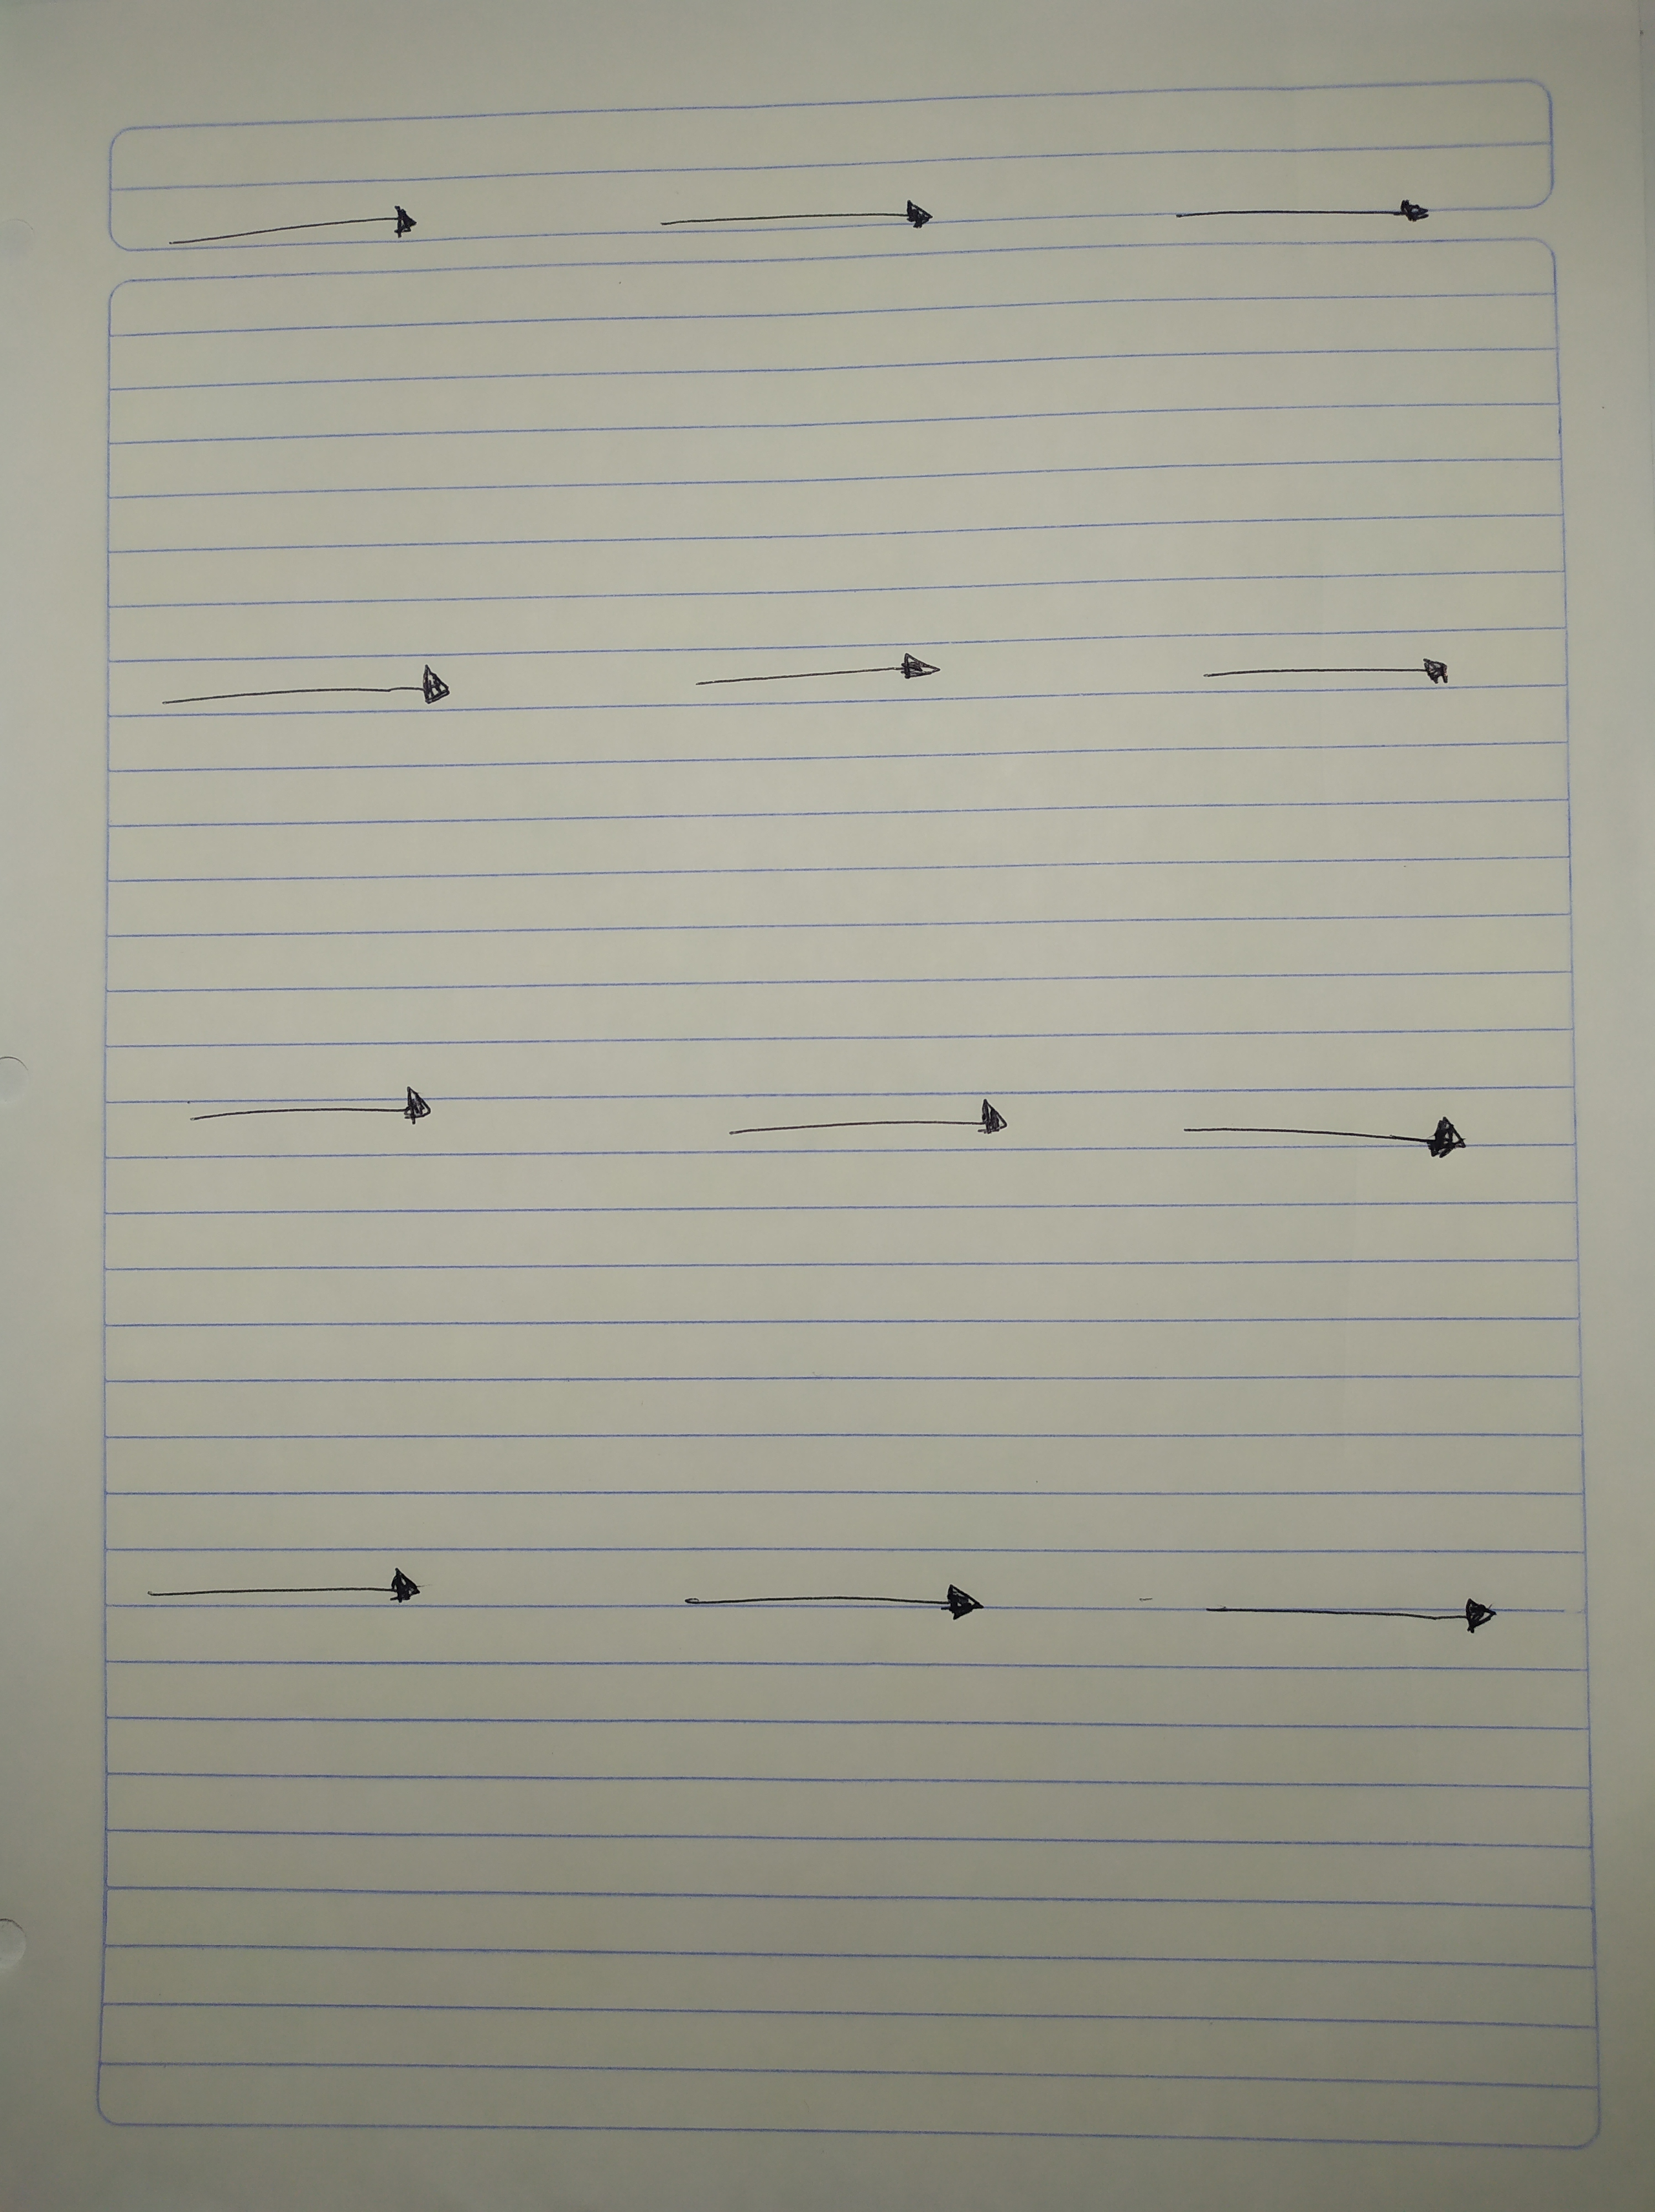arrow_line_right: (1142, 1069, 1495, 1189), (134, 1048, 501, 1156), (650, 1543, 1014, 1642), (657, 631, 987, 733), (704, 1076, 1022, 1180), (118, 1540, 469, 1628), (1165, 1569, 1516, 1656), (615, 179, 979, 254), (1166, 629, 1476, 716), (153, 182, 438, 271), (1137, 177, 1455, 250), (137, 652, 480, 719)
